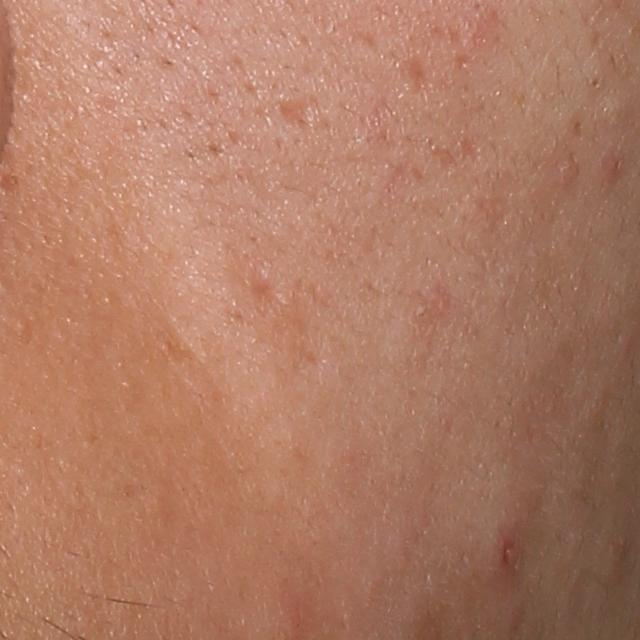atrophic_scar: (393, 51, 441, 101), (275, 95, 317, 134), (246, 272, 281, 311)
papule: (488, 518, 529, 577)
